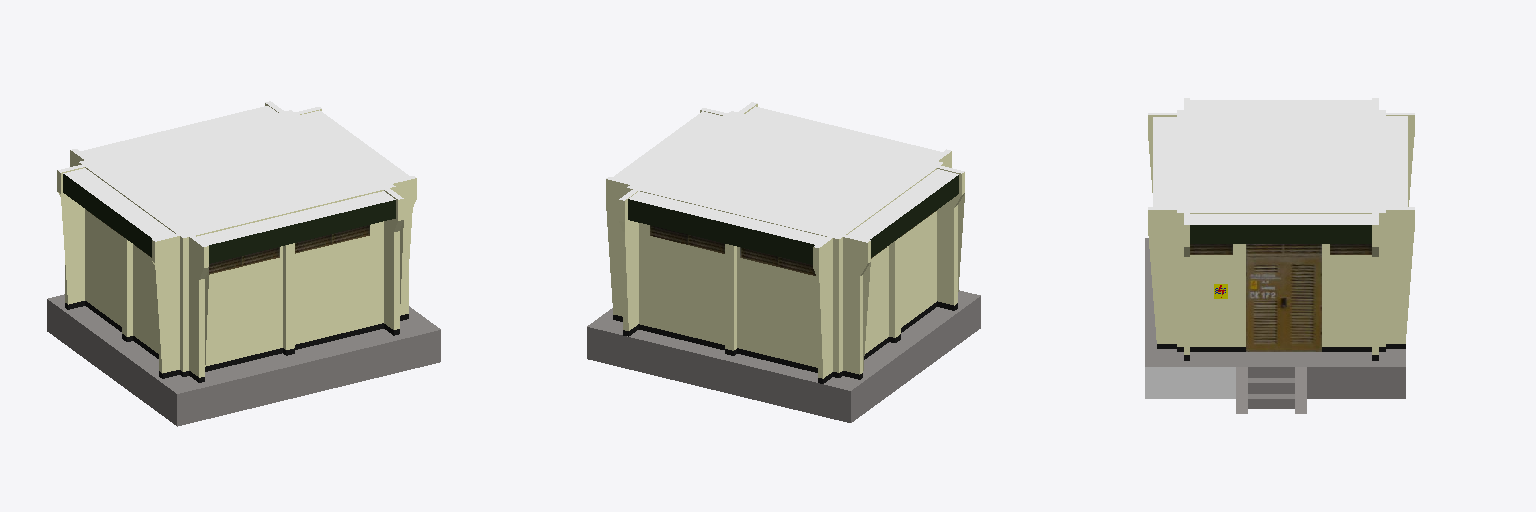
3 renders of one model, left to right at view 1: azimuth 30°, elevation 25°; view 2: azimuth 150°, elevation 25°; view 3: azimuth 270°, elevation 25°, orthographic.
Parts seen in each view (by area): view 1: Mesh10 Group1 Model, Mesh11 Group1 Model, Mesh6 kolom6 Group1 Model, Mesh3 kolom3 Group1 Model, Mesh5 kolom5 Group1 Model, Mesh4 kolom4 Group1 Model, Mesh12 Group1 Model, Mesh9 Group1 Model, Mesh2 kolom2 Group1 Model; view 2: Mesh10 Group1 Model, Mesh9 Group1 Model, Mesh11 Group1 Model, Mesh5 kolom5 Group1 Model, Mesh6 kolom6 Group1 Model, Mesh8 kolom8 Group1 Model, Mesh7 kolom7 Group1 Model, Mesh1 kolom1 Group1 Model, Mesh12 Group1 Model; view 3: Mesh10 Group1 Model, Mesh12 Group1 Model, Mesh4 kolom4 Group1 Model, Mesh7 kolom7 Group1 Model, Mesh9 Group1 Model, Mesh11 Group1 Model, Mesh1 kolom1 Group1 Model, Mesh2 kolom2 Group1 Model.
Boxes of the visible parts, box(x1,y1,x2,y2) form: Mesh10 Group1 Model: box(47, 110, 440, 426); Mesh11 Group1 Model: box(63, 168, 174, 256); Mesh6 kolom6 Group1 Model: box(152, 234, 179, 378); Mesh3 kolom3 Group1 Model: box(189, 236, 208, 382); Mesh5 kolom5 Group1 Model: box(57, 165, 84, 309); Mesh4 kolom4 Group1 Model: box(384, 188, 403, 335); Mesh12 Group1 Model: box(299, 110, 409, 180); Mesh9 Group1 Model: box(80, 106, 277, 158); Mesh2 kolom2 Group1 Model: box(389, 176, 416, 320); Mesh10 Group1 Model: box(587, 106, 980, 422); Mesh9 Group1 Model: box(628, 191, 825, 264); Mesh11 Group1 Model: box(848, 169, 958, 257); Mesh5 kolom5 Group1 Model: box(843, 235, 870, 379); Mesh6 kolom6 Group1 Model: box(937, 165, 964, 310); Mesh8 kolom8 Group1 Model: box(813, 237, 832, 383); Mesh7 kolom7 Group1 Model: box(619, 189, 638, 336); Mesh1 kolom1 Group1 Model: box(606, 177, 632, 321); Mesh12 Group1 Model: box(613, 111, 723, 182); Mesh10 Group1 Model: box(1145, 110, 1405, 413); Mesh12 Group1 Model: box(1190, 214, 1371, 243); Mesh4 kolom4 Group1 Model: box(1148, 207, 1176, 348); Mesh7 kolom7 Group1 Model: box(1386, 207, 1414, 348); Mesh9 Group1 Model: box(1386, 116, 1407, 206); Mesh11 Group1 Model: box(1190, 100, 1371, 109); Mesh1 kolom1 Group1 Model: box(1372, 213, 1378, 360); Mesh2 kolom2 Group1 Model: box(1184, 213, 1189, 360).
Size of the model in its own units: 7.21 by 3.96 by 5.64.
8 materials, 3 textured.